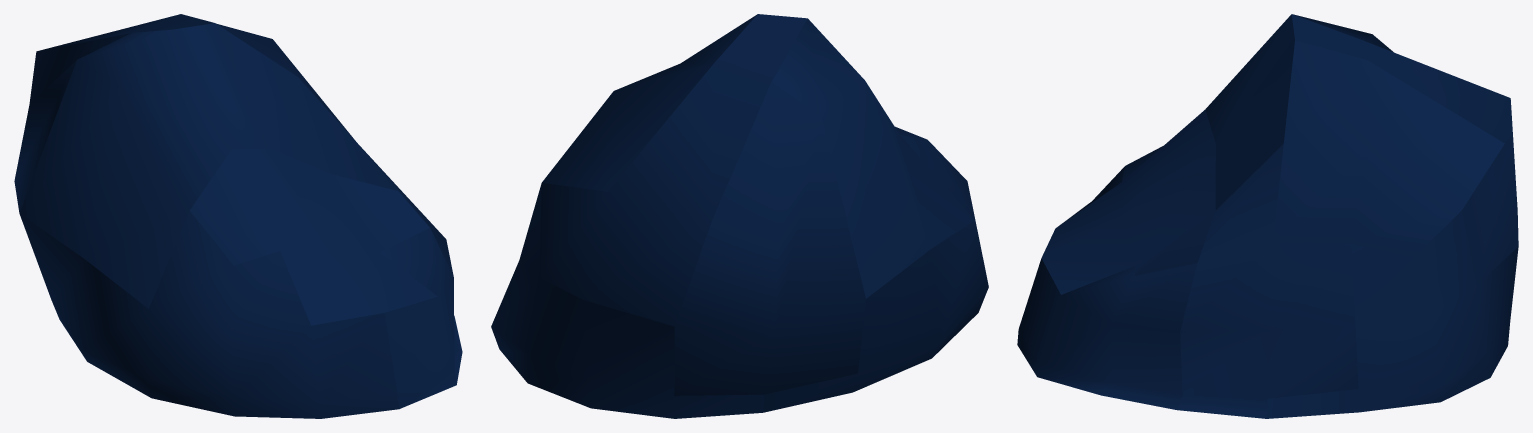
The model's file is Rock3.fbx.
The picture shows the model from 3 angles, left to right: view 1: azimuth 30°, elevation 25°; view 2: azimuth 150°, elevation 25°; view 3: azimuth 270°, elevation 25°; orthographic projection. The views are drawn at different scales.
Parts seen in each view (by area): view 1: Cube; view 2: Cube; view 3: Cube.
Part boxes in pixels (<box>): Cube: <box>14,14,462,418</box>; Cube: <box>491,14,988,418</box>; Cube: <box>1017,14,1518,418</box>.
Size of the model in its own units: 162 by 132 by 207.
